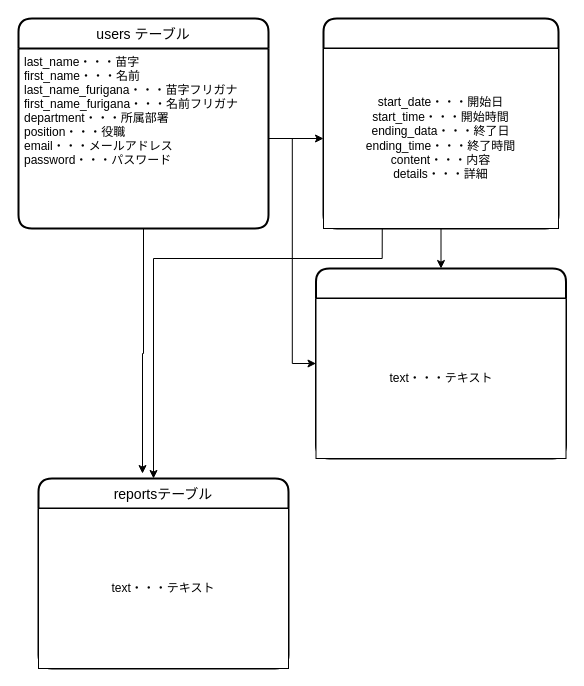
Some shapes in this 584 by 686 pixel diagram are drawn without their labels. The shapes that lost their labels are listed below. From the top down, each one's box as (x1, y1, x2, y2) in pixels, then its label:
(322, 17, 559, 229): schedulesテーブル
(314, 267, 566, 459): schedule_commentsテーブル
